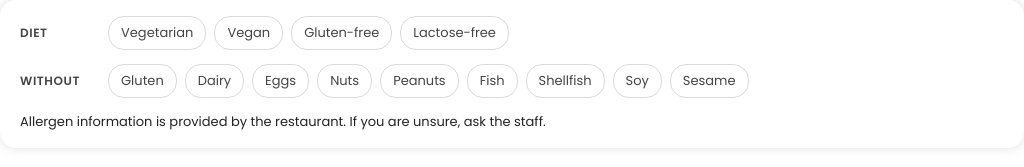
Test: DishFilterComponent › shows how many dishes are hidden only while a filter is active
Expected: the text "hidden" is not shown
Click the button with class "chip" showing "Vegan". click: (249, 33)
box: left=214, top=16, right=283, bottom=50
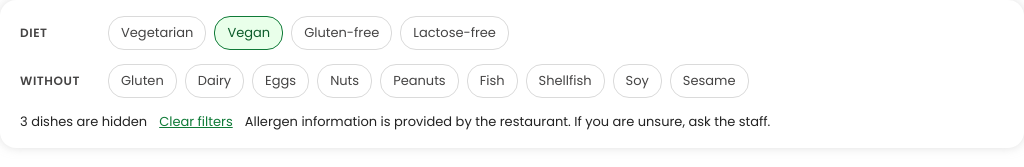
Expected: the text "3 dishes are hidden" is shown, left=20, top=112, right=147, bottom=132
